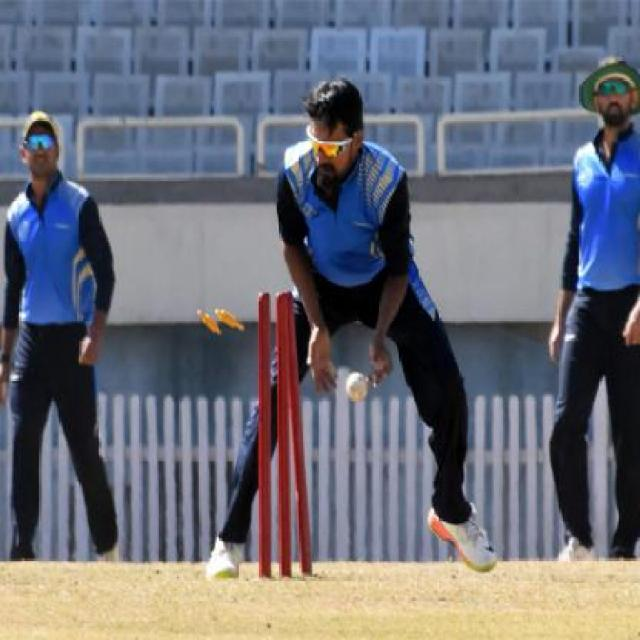ball: (333, 364, 380, 414)
